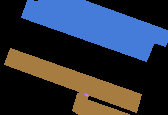parkingspot: (4, 48, 141, 112), (21, 0, 154, 61), (36, 0, 168, 46), (72, 92, 134, 115)
